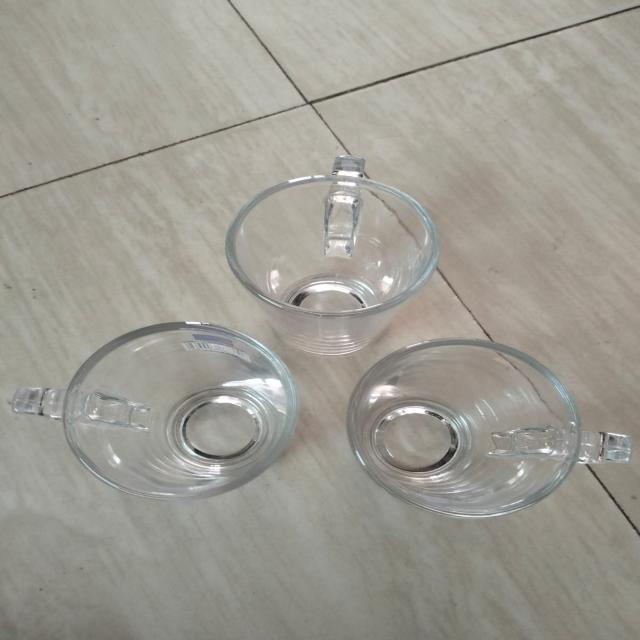glass-VX4N: (342, 332, 632, 525), (5, 323, 302, 498), (226, 156, 441, 356)
